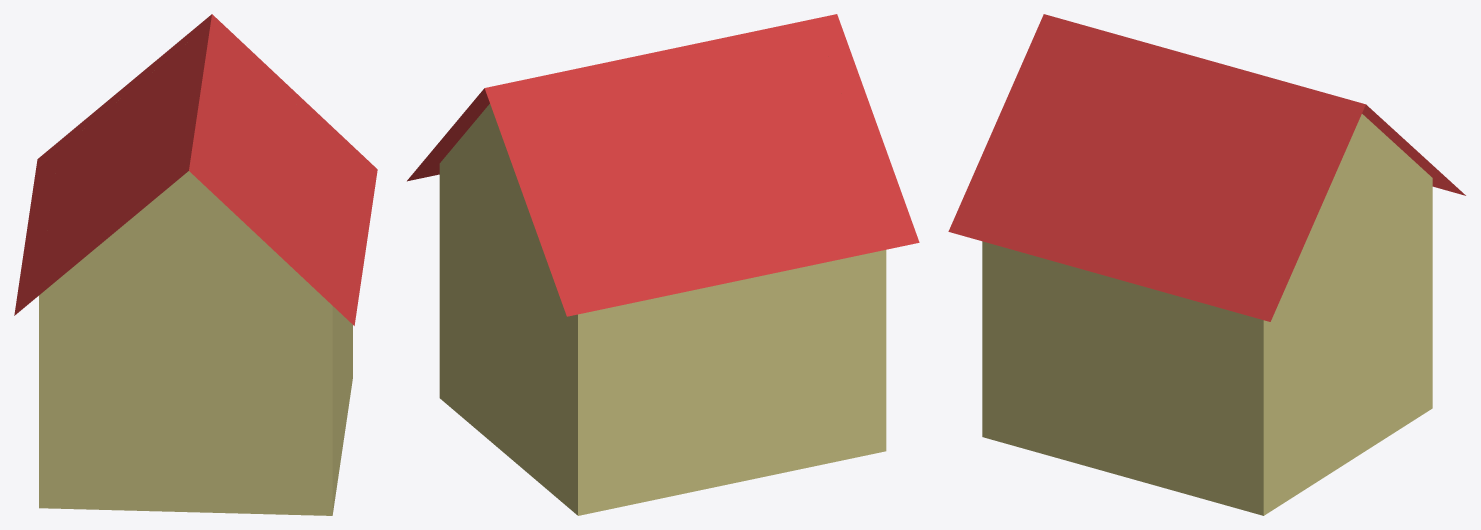
The picture shows the model from 3 angles, left to right: view 1: azimuth 30°, elevation 25°; view 2: azimuth 150°, elevation 25°; view 3: azimuth 270°, elevation 25°; orthographic projection. The views are drawn at different scales.
Parts seen in each view (by area): view 1: group_5, group_3, group_4; view 2: group_5, group_3, group_4; view 3: group_5, group_3, group_4.
Part boxes in pixels (x1,y1,x2,y2): group_5: (39, 171, 352, 515); group_3: (39, 14, 377, 325); group_4: (14, 14, 377, 315); group_5: (439, 104, 886, 515); group_3: (407, 18, 911, 281); group_4: (409, 14, 919, 316); group_5: (982, 114, 1432, 515); group_3: (948, 14, 1465, 321); group_4: (1087, 106, 1364, 321).
Bounding box in the file's own units: 15.67 × 15.95 × 12.4.
